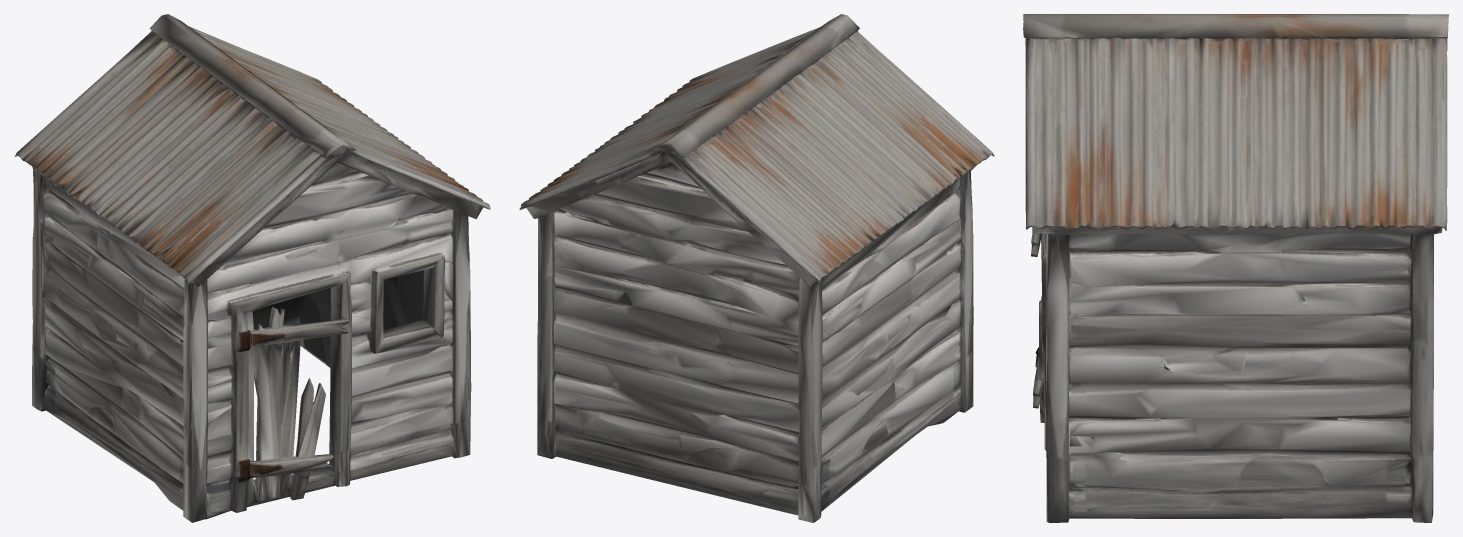
Rendered from shed.glb.
3 views of the same model, side by side, from view 1: azimuth 30°, elevation 25°; view 2: azimuth 150°, elevation 25°; view 3: azimuth 270°, elevation 25° (orthographic). The views are drawn at different scales.
Visible parts, largest first — view 1: Mesh_0; view 2: Mesh_0; view 3: Mesh_0.
Boxes of the visible parts, x1=… form: Mesh_0: x1=14, y1=14, x2=490, y2=522; Mesh_0: x1=519, y1=14, x2=994, y2=522; Mesh_0: x1=1023, y1=14, x2=1448, y2=522.
Size of the model in its own units: 1.72 by 1.91 by 1.73.
1 material, 1 textured.
